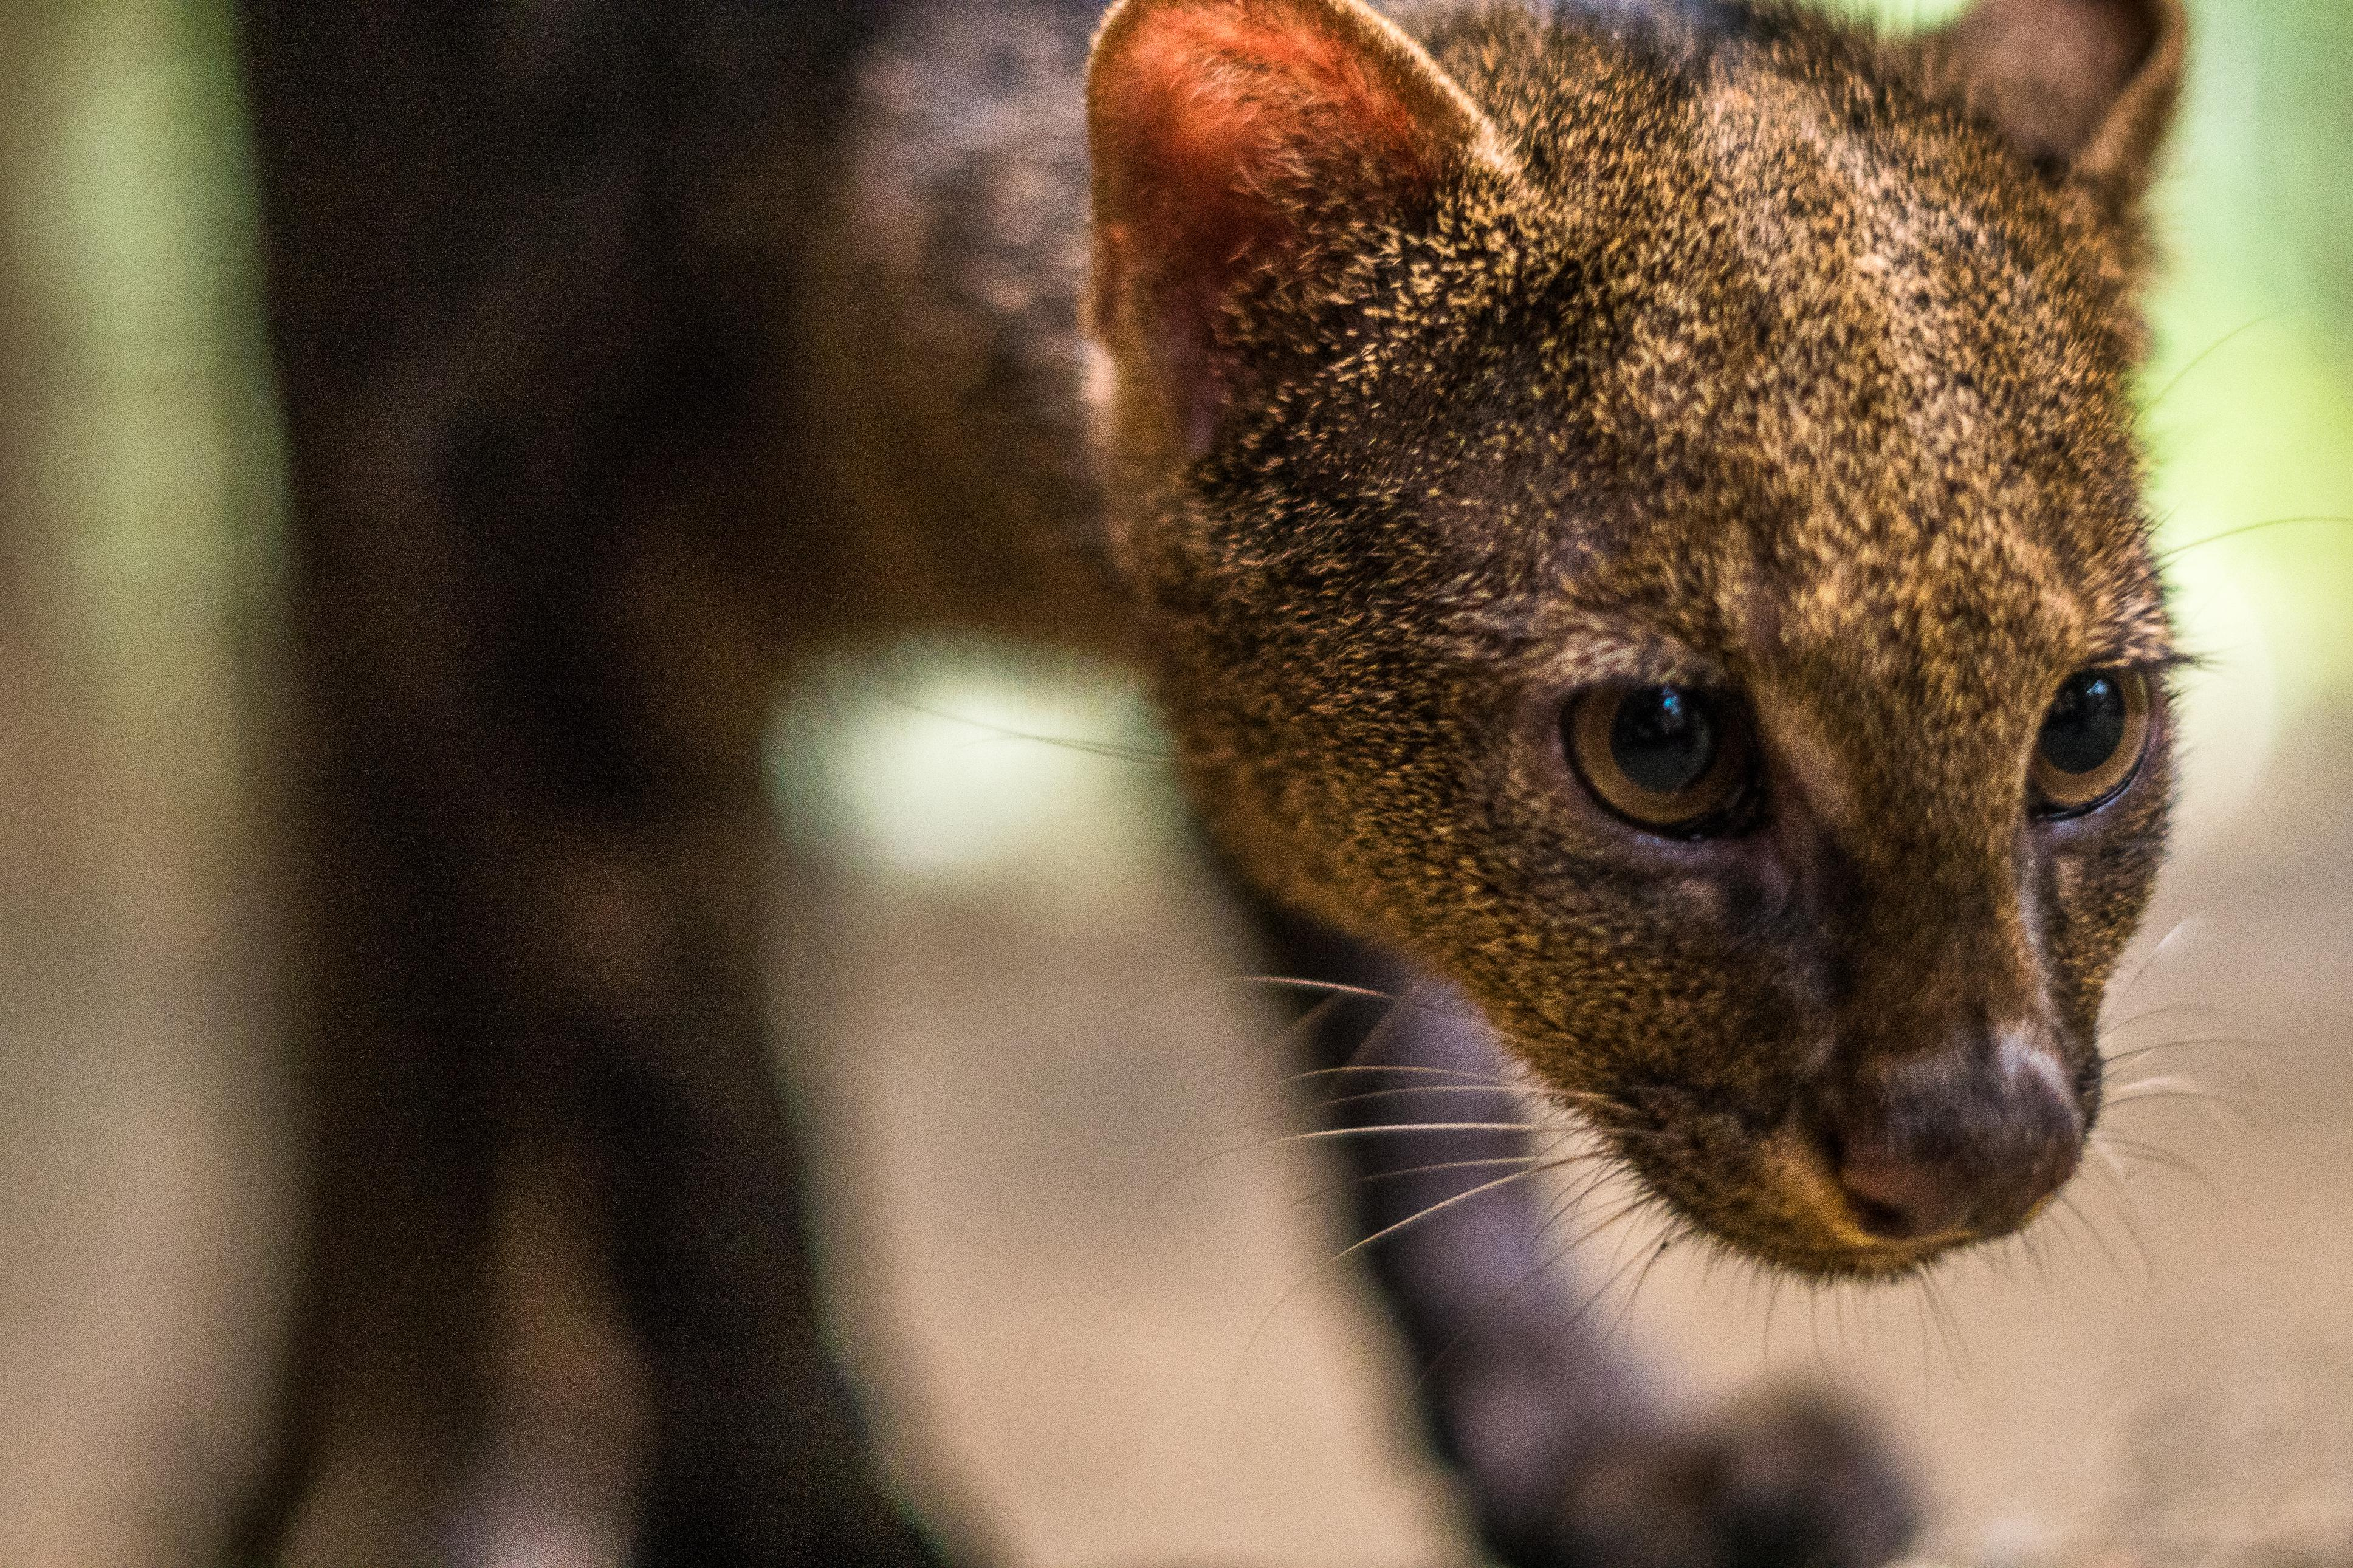Jaguarundi: (608, 16, 2239, 1300)
